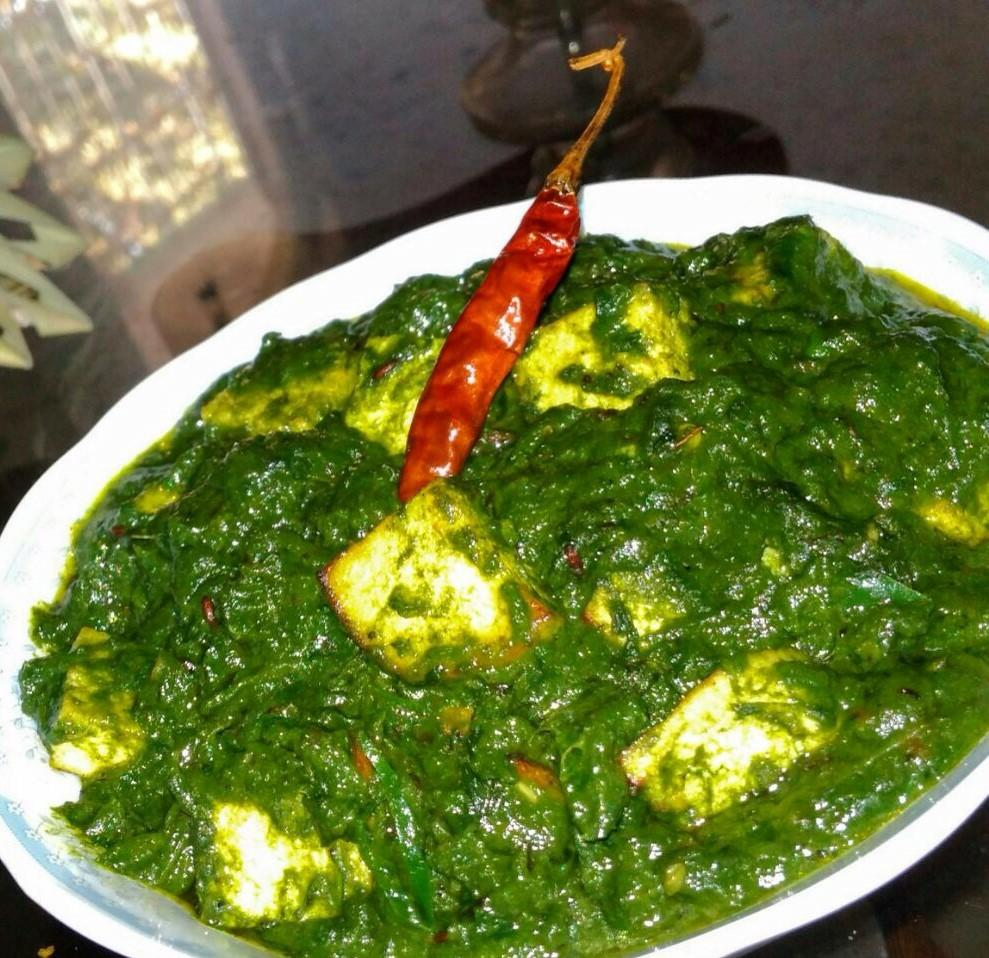PalakPaneer: (20, 212, 989, 958)
